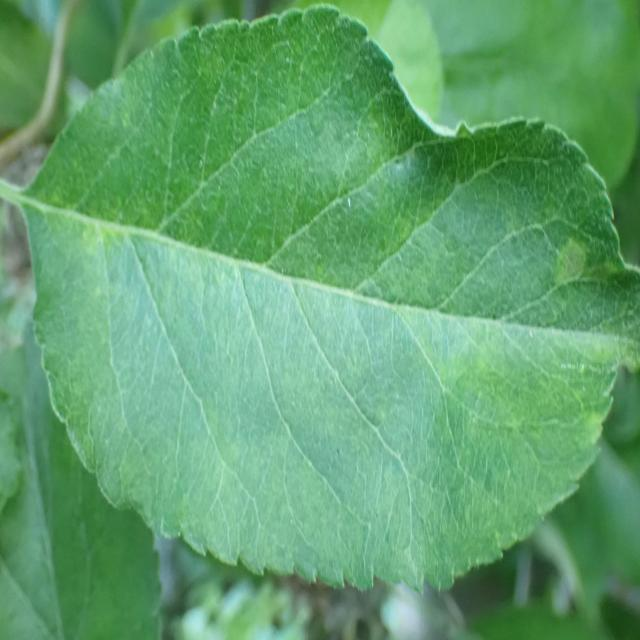scab: (81, 48, 606, 425)
